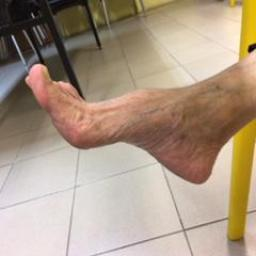Medial View -Right Foot-: (8, 34, 255, 209)
